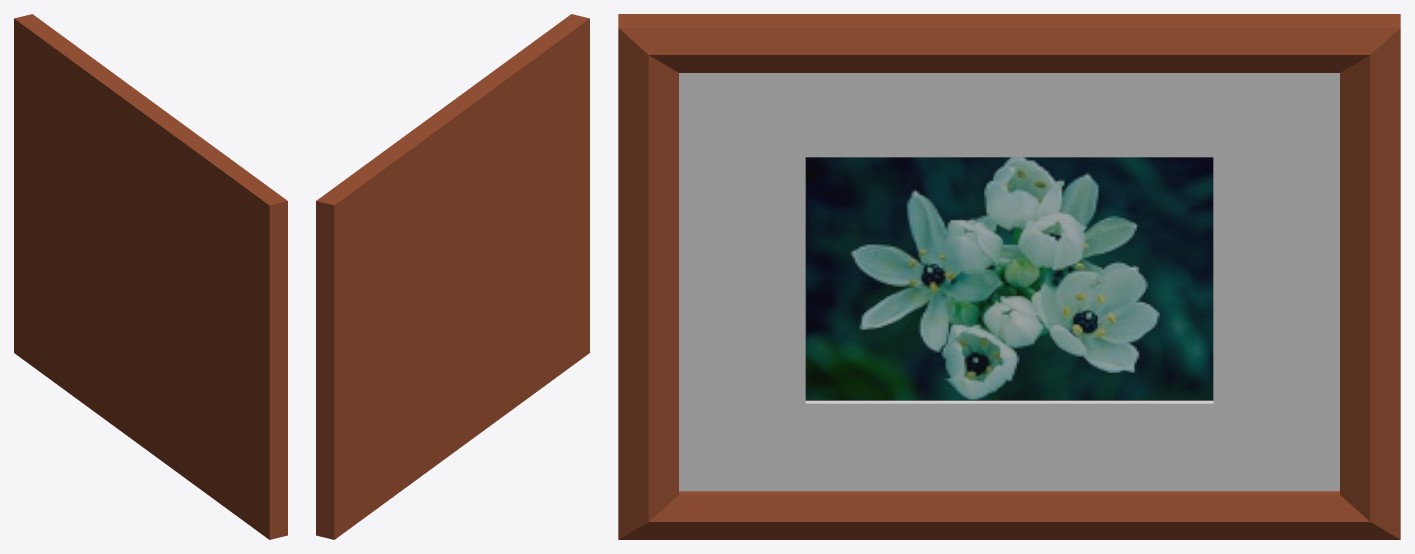
Rendered from photoframe.glb.
3 renders of one model, left to right at view 1: azimuth 30°, elevation 25°; view 2: azimuth 150°, elevation 25°; view 3: azimuth 270°, elevation 25°, orthographic. The views are drawn at different scales.
Visible parts, largest first — view 1: Frame; view 2: Frame; view 3: Frame, Photo.
Part boxes in pixels (x1,y1,x2,y2): Frame: (14,14,287,539); Frame: (316,14,589,539); Frame: (618,14,1400,539); Photo: (805,157,1213,400).
Size of the model in its own units: 0.02 by 0.26 by 0.36.
Materials: 3 (1 with a texture image).
